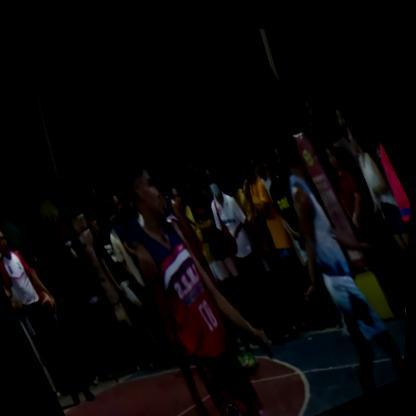basketball: (32, 278, 67, 321)
